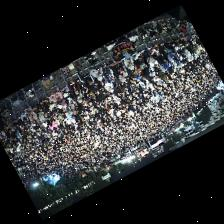person: (75, 66, 94, 87), (144, 50, 159, 68), (140, 62, 155, 76), (141, 67, 154, 83), (68, 77, 80, 94), (165, 46, 178, 60), (110, 60, 123, 74), (36, 98, 50, 111), (113, 66, 125, 80), (49, 91, 62, 103), (125, 64, 137, 76), (90, 67, 102, 79), (132, 51, 143, 64), (80, 84, 90, 98), (150, 42, 159, 57), (123, 56, 134, 68), (104, 77, 113, 91), (119, 81, 129, 93), (163, 60, 173, 72), (65, 95, 75, 107), (102, 64, 110, 78), (114, 76, 125, 86), (49, 100, 58, 112), (90, 83, 99, 95), (29, 111, 37, 124), (164, 40, 174, 50), (24, 105, 33, 116), (49, 109, 58, 120), (12, 117, 21, 128), (49, 120, 57, 132), (39, 111, 46, 124), (76, 89, 83, 102), (113, 83, 120, 96), (21, 110, 28, 123), (95, 77, 104, 87), (159, 70, 168, 80), (179, 36, 188, 45), (159, 44, 167, 54), (7, 120, 15, 130), (168, 54, 176, 64), (99, 86, 107, 96), (61, 87, 69, 96), (113, 93, 120, 103), (109, 68, 114, 82), (4, 125, 12, 133), (58, 104, 66, 112), (24, 119, 31, 128), (57, 114, 63, 124), (171, 38, 179, 45), (192, 34, 195, 40)
